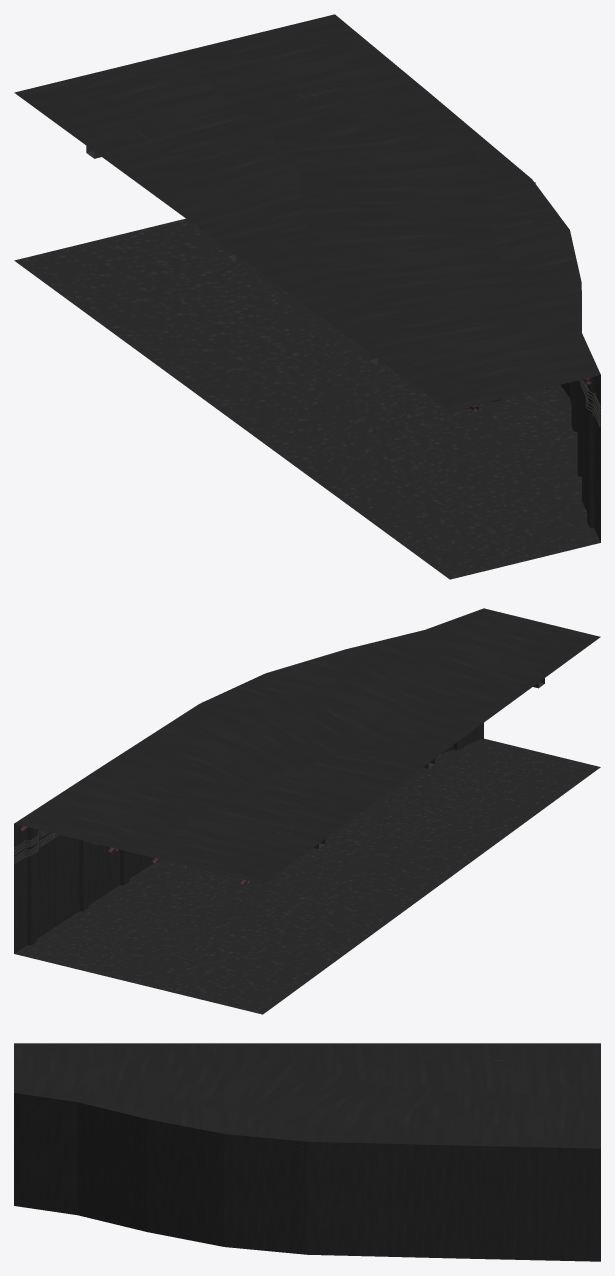
File: SW_ENV_RailTunnel_SingleToDoubleRight_FF.fbx
3 renders of one model, top to bottom at view 1: azimuth 30°, elevation 25°; view 2: azimuth 150°, elevation 25°; view 3: azimuth 270°, elevation 25°, orthographic. The views are drawn at different scales.
Visible parts, largest first — view 1: SW_ENV_RailTunnel_SingleToDoubleRight_FF; view 2: SW_ENV_RailTunnel_SingleToDoubleRight_FF; view 3: SW_ENV_RailTunnel_SingleToDoubleRight_FF.
Boxes of the visible parts, left/top/right/bottom form: SW_ENV_RailTunnel_SingleToDoubleRight_FF: left=14, top=14, right=600, bottom=579; SW_ENV_RailTunnel_SingleToDoubleRight_FF: left=14, top=608, right=600, bottom=1014; SW_ENV_RailTunnel_SingleToDoubleRight_FF: left=14, top=1043, right=600, bottom=1261.
Size of the model in its own units: 8.5 by 4.25 by 20.
